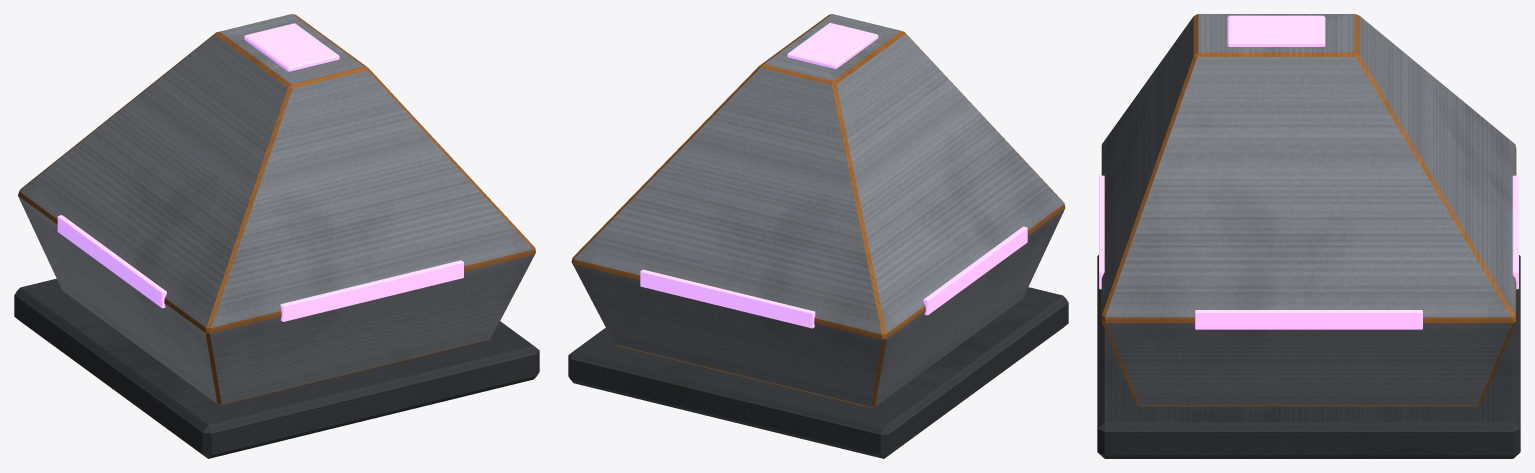
The model's file is R4X_Stealth_LOD1.glb.
3 renders of one model, left to right at view 1: azimuth 30°, elevation 25°; view 2: azimuth 150°, elevation 25°; view 3: azimuth 270°, elevation 25°, orthographic. The views are drawn at different scales.
Visible parts, largest first — view 1: R4X_Stealth_LOD1; view 2: R4X_Stealth_LOD1; view 3: R4X_Stealth_LOD1.
Part boxes in pixels (left/top/right/bottom): R4X_Stealth_LOD1: left=14, top=14, right=539, bottom=458; R4X_Stealth_LOD1: left=568, top=14, right=1068, bottom=458; R4X_Stealth_LOD1: left=1097, top=14, right=1520, bottom=458.
Bounding box in the file's own units: 0.52 × 0.466 × 0.52.
4 materials, 3 textured.
